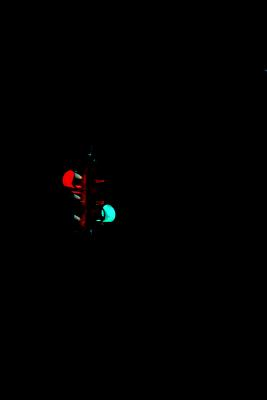International Road Signal Light: (62, 152, 116, 234)
